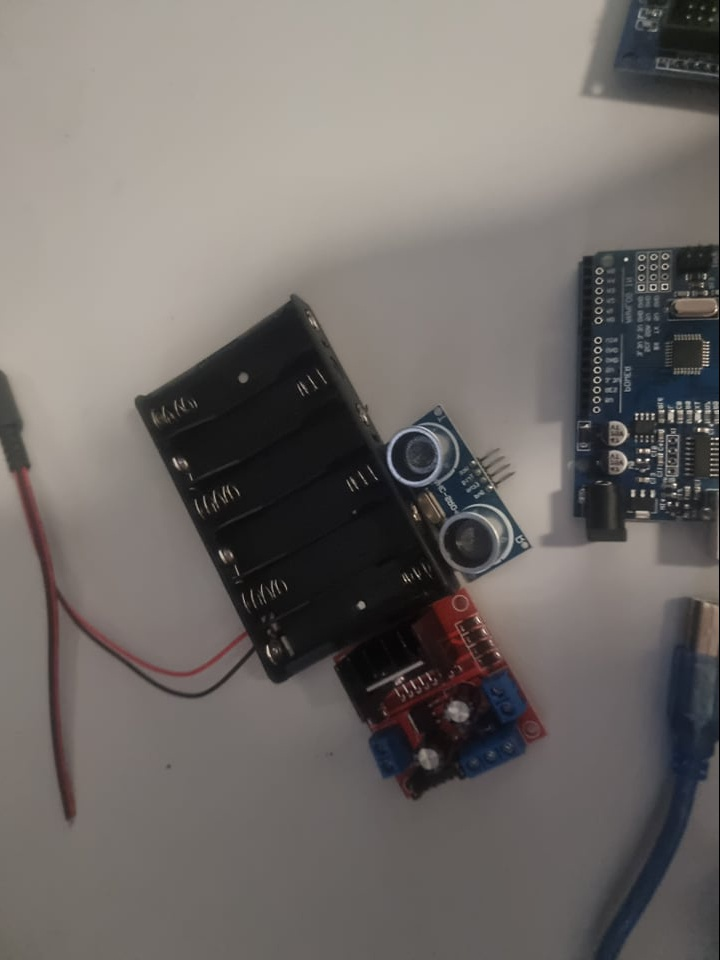BATTERY BOX: (129, 292, 451, 684)
MOTOR: (338, 586, 548, 822)
SENSOR: (385, 399, 536, 576)
UNO R3: (567, 248, 720, 539)
